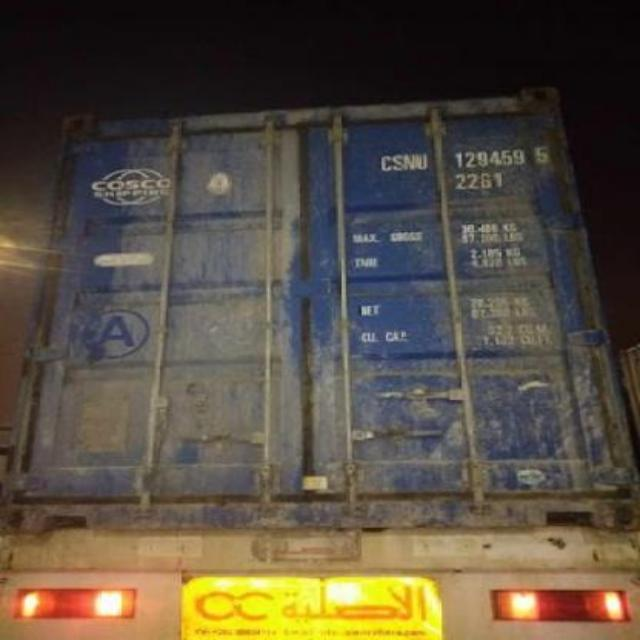1: (452, 147, 464, 171)
2: (464, 148, 476, 168)
4: (488, 142, 500, 174)
5: (498, 142, 512, 174), (534, 143, 552, 167)
9: (512, 137, 526, 173), (476, 142, 488, 168)
C: (376, 150, 392, 174)
N: (402, 148, 416, 176)
S: (392, 148, 404, 176)
U: (414, 147, 430, 176)
